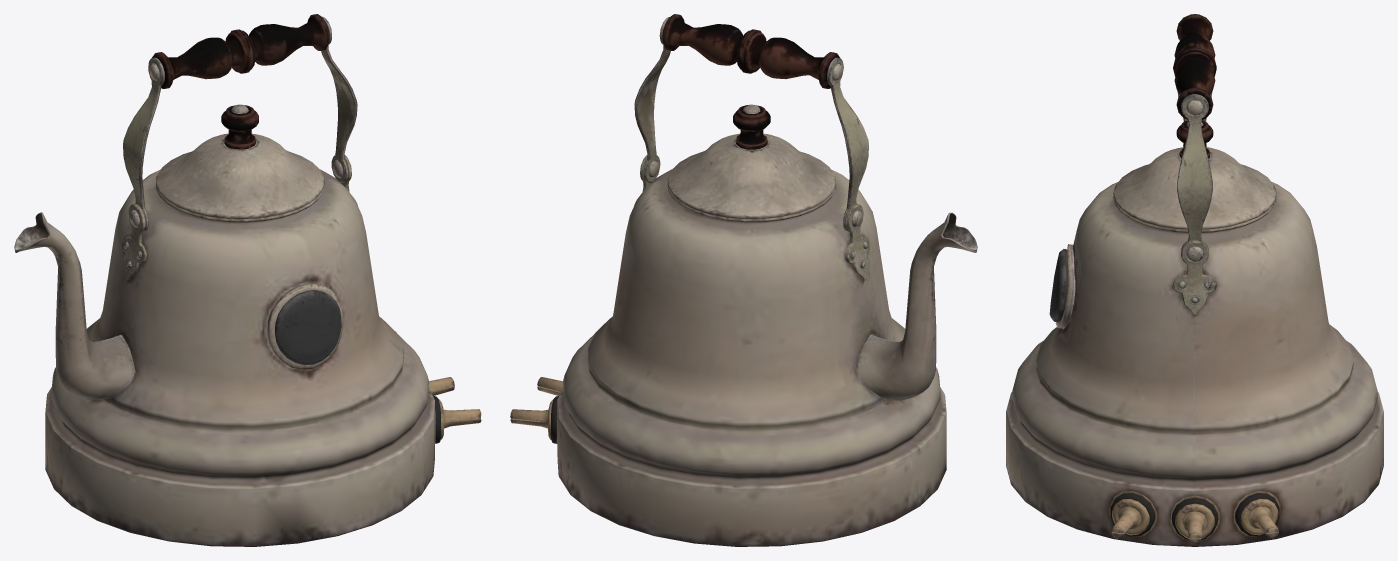
The model's file is vintage_electric_kettle.glb.
The picture shows the model from 3 angles, left to right: view 1: azimuth 30°, elevation 25°; view 2: azimuth 150°, elevation 25°; view 3: azimuth 270°, elevation 25°; orthographic projection. The views are drawn at different scales.
Visible parts, largest first — view 1: vintage_electric_kettle; view 2: vintage_electric_kettle; view 3: vintage_electric_kettle.
Part boxes in pixels (bbox=[...]): vintage_electric_kettle: bbox=[14, 14, 481, 546]; vintage_electric_kettle: bbox=[510, 14, 977, 546]; vintage_electric_kettle: bbox=[1006, 14, 1383, 546].
Bounding box in the file's own units: 0.3209 × 0.3047 × 0.2486.
2 materials, 2 textured.
